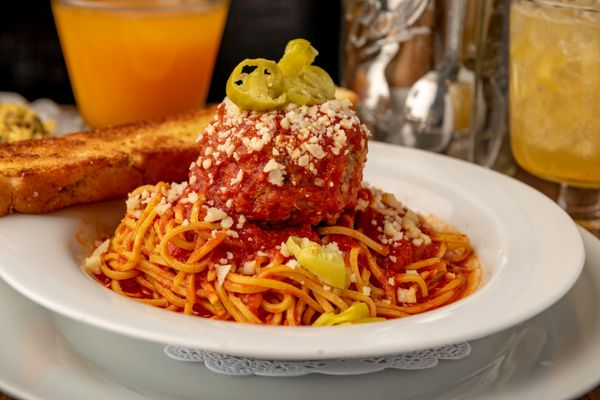pizza: (50, 0, 232, 129), (507, 0, 600, 217), (399, 0, 509, 167)
sushi: (12, 142, 589, 376)
